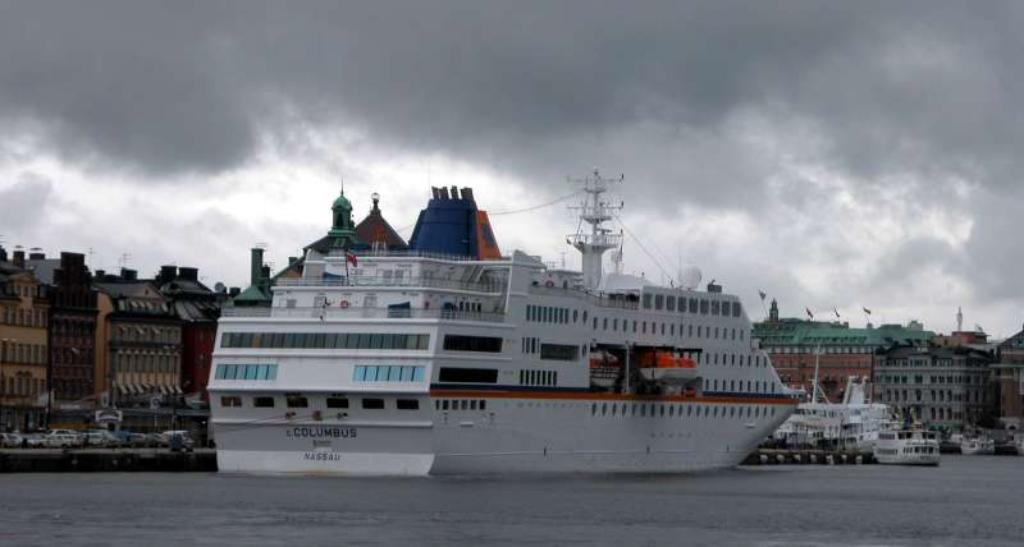PassengerShip: (202, 160, 814, 482), (871, 422, 945, 471)
